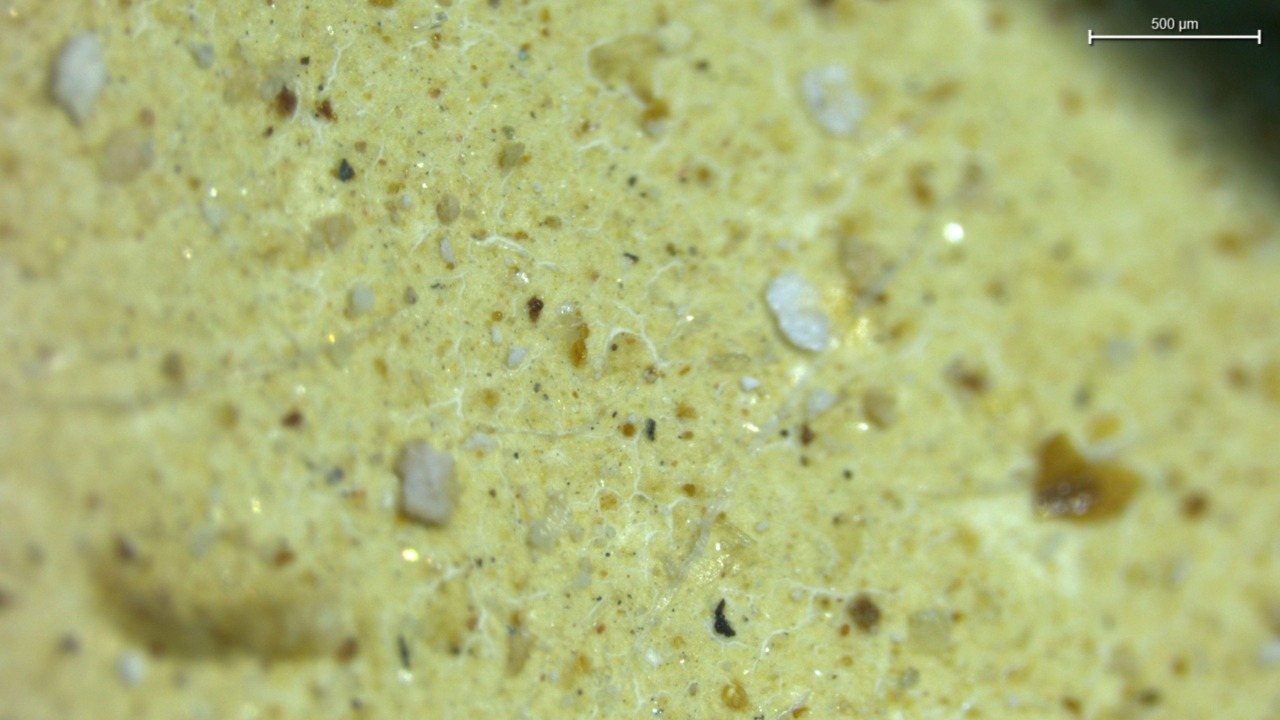microplastic_fragment: (393, 439, 464, 533), (763, 272, 840, 357), (50, 32, 110, 131)
